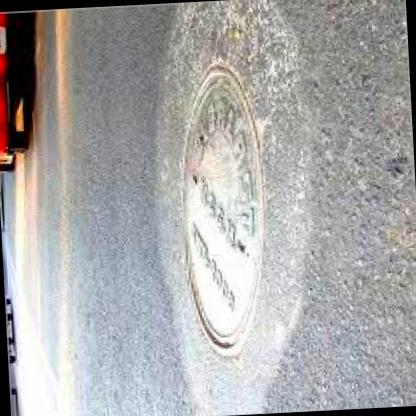manholes: (150, 35, 299, 377)
